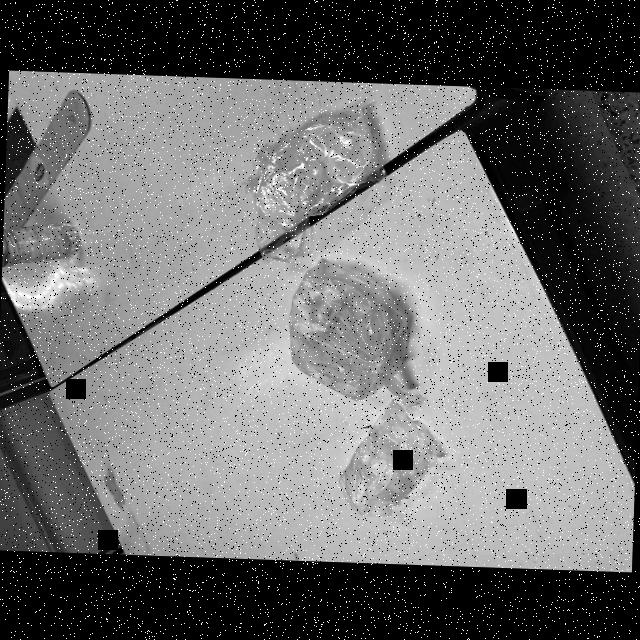plastic_bag: (237, 91, 393, 262), (283, 250, 425, 400)
scrap_plastic: (323, 402, 455, 528)
